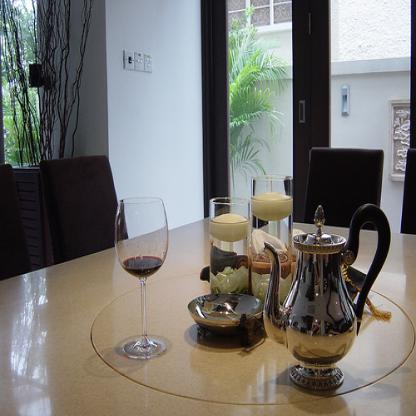chair: (38, 153, 128, 264), (300, 148, 384, 230), (0, 163, 34, 287)
diningtable: (0, 215, 415, 415)
